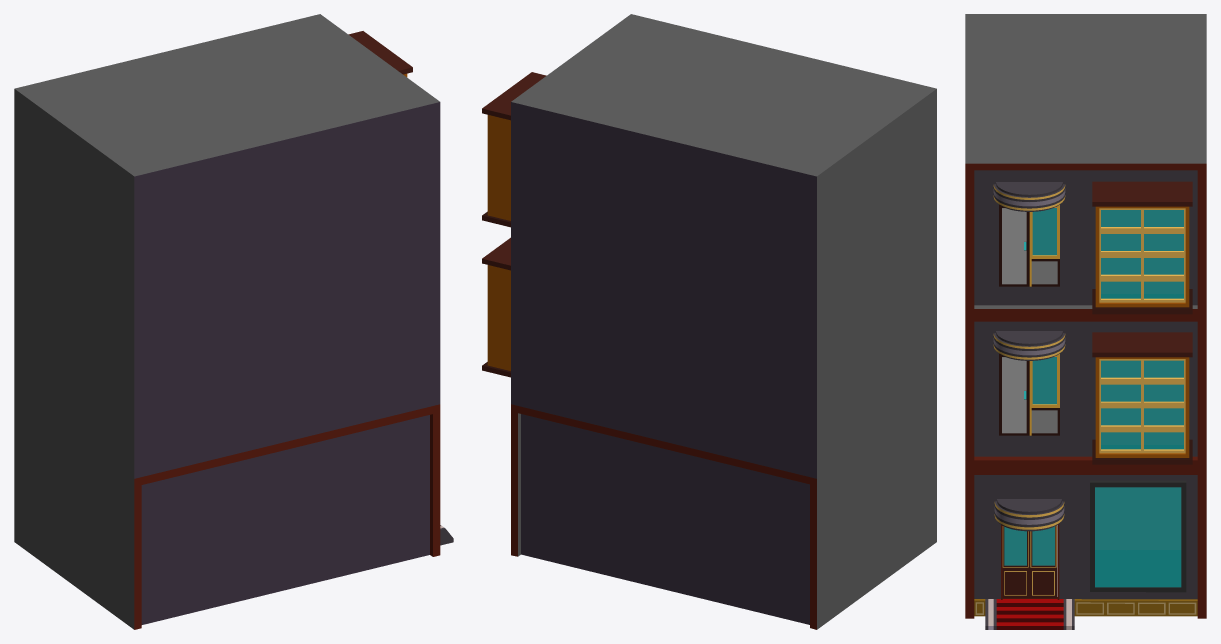
Rendered from PropBuilding_5.fbx.
3 renders of one model, left to right at view 1: azimuth 30°, elevation 25°; view 2: azimuth 150°, elevation 25°; view 3: azimuth 270°, elevation 25°, orthographic.
Parts seen in each view (by area): view 1: PropBulding5_Body, PropBulding5_Body.005; view 2: PropBulding5_Body, PropBulding5_Body.005, PropBulding5_Body.004; view 3: PropBulding5_Body, PropBulding5_Body.005, PropBulding5_Body.004, PropBulding5_Body.003, PropBulding5_Body.007, PropBulding5_Body.001, Cylinder, Cylinder.002, Cylinder.001.
Boxes of the visible parts, x1=… form: PropBulding5_Body: x1=14, y1=14, x2=453, y2=629; PropBulding5_Body.005: x1=348, y1=31, x2=412, y2=77; PropBulding5_Body: x1=511, y1=14, x2=936, y2=629; PropBulding5_Body.005: x1=482, y1=72, x2=546, y2=227; PropBulding5_Body.004: x1=482, y1=237, x2=510, y2=377; PropBulding5_Body: x1=965, y1=14, x2=1206, y2=629; PropBulding5_Body.005: x1=1092, y1=181, x2=1192, y2=314; PropBulding5_Body.004: x1=1092, y1=332, x2=1192, y2=464; PropBulding5_Body.003: x1=1090, y1=480, x2=1186, y2=592; PropBulding5_Body.007: x1=999, y1=204, x2=1059, y2=435; PropBulding5_Body.001: x1=1002, y1=525, x2=1057, y2=598; Cylinder: x1=994, y1=499, x2=1064, y2=531; Cylinder.002: x1=993, y1=182, x2=1065, y2=211; Cylinder.001: x1=993, y1=331, x2=1065, y2=360.
Bounding box in the file's own units: 1624 × 2059 × 988.
Materials: 6 (6 with a texture image).
